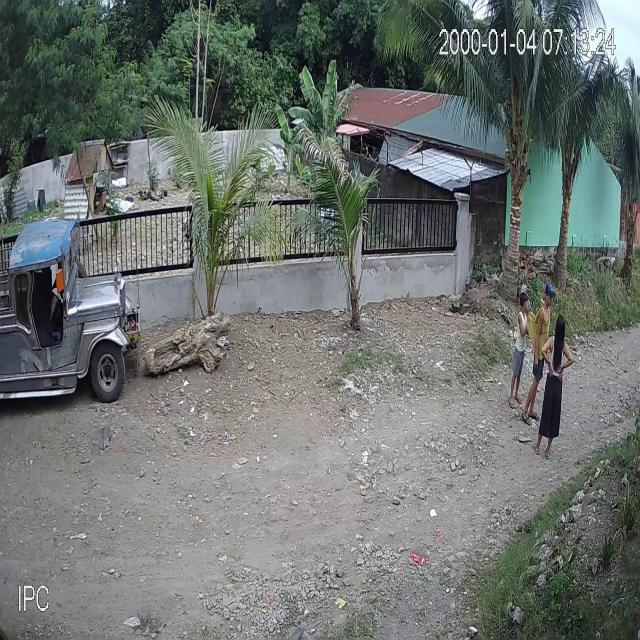standing: (532, 315, 575, 462), (520, 280, 556, 428), (507, 290, 532, 410)
